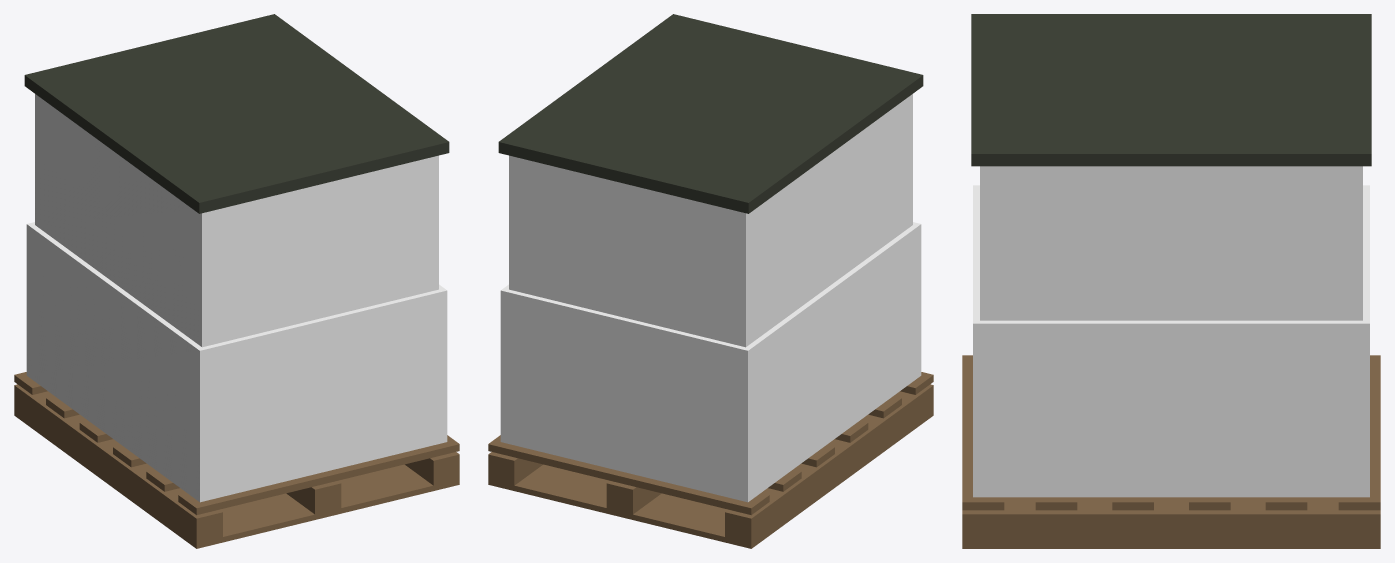
Rendered from pallet.glb.
3 renders of one model, left to right at view 1: azimuth 30°, elevation 25°; view 2: azimuth 150°, elevation 25°; view 3: azimuth 270°, elevation 25°, orthographic. The views are drawn at different scales.
Visible parts, largest first — view 1: load, base; view 2: load, base; view 3: load, base.
Boxes of the visible parts, <box> form: load: <box>24,14,449,502</box>; base: <box>14,372,459,548</box>; load: <box>498,14,923,502</box>; base: <box>488,372,933,548</box>; load: <box>971,14,1371,497</box>; base: <box>962,355,1380,548</box>.
Size of the model in its own units: 1 by 1.24 by 1.2.
